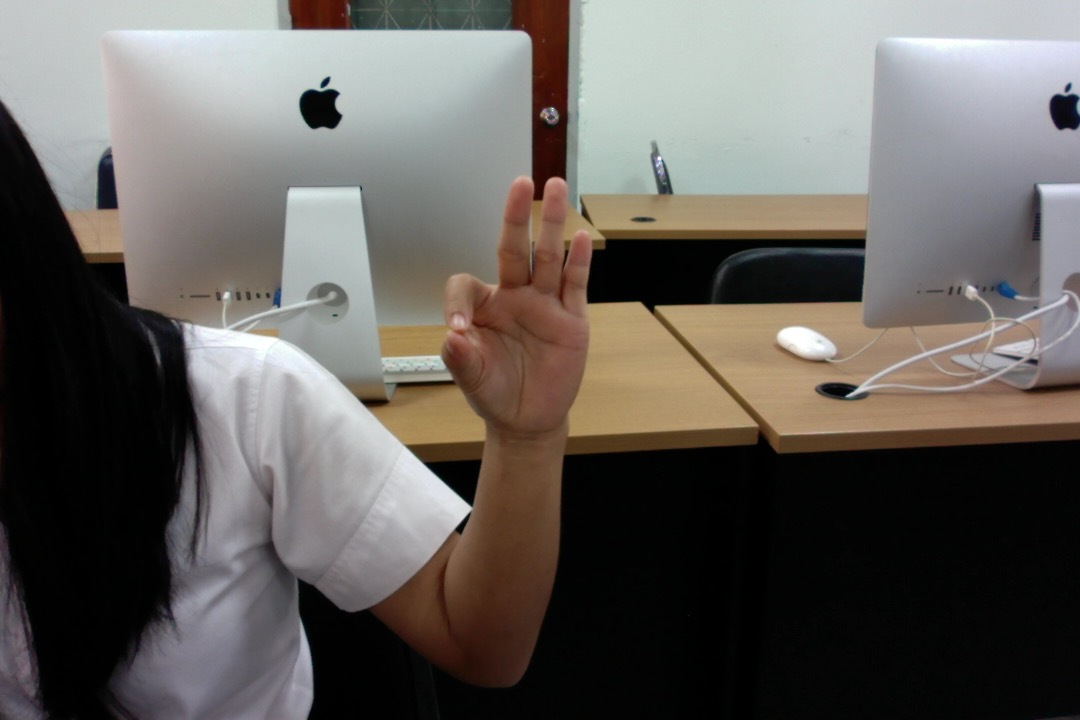for: (431, 166, 602, 449)
